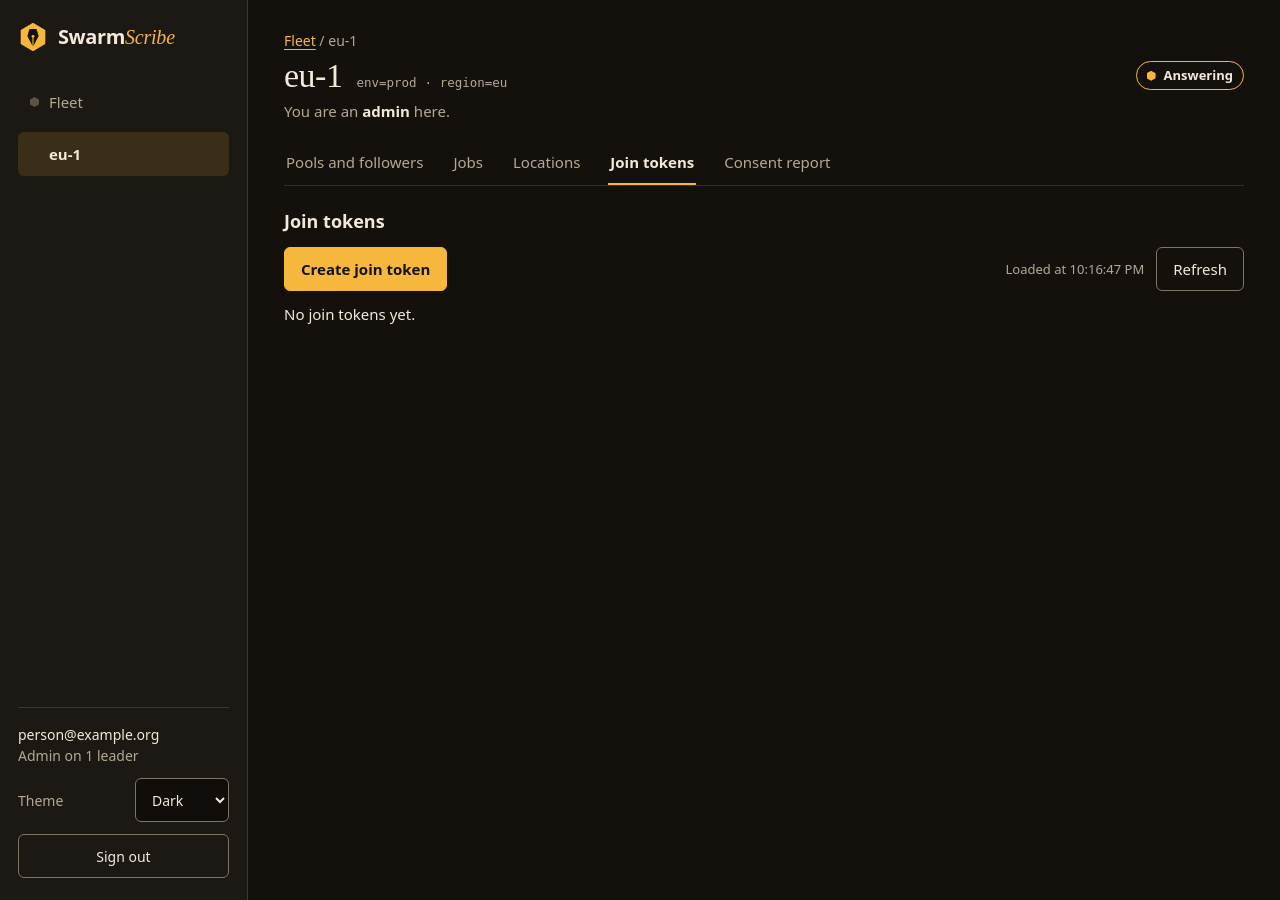
Test: join tokens tab: create › refuses Pool = -bad beside the field, without asking the leader
Click the button "Create join token" at [366, 269], box x1=284 y1=247 x2=447 y2=291
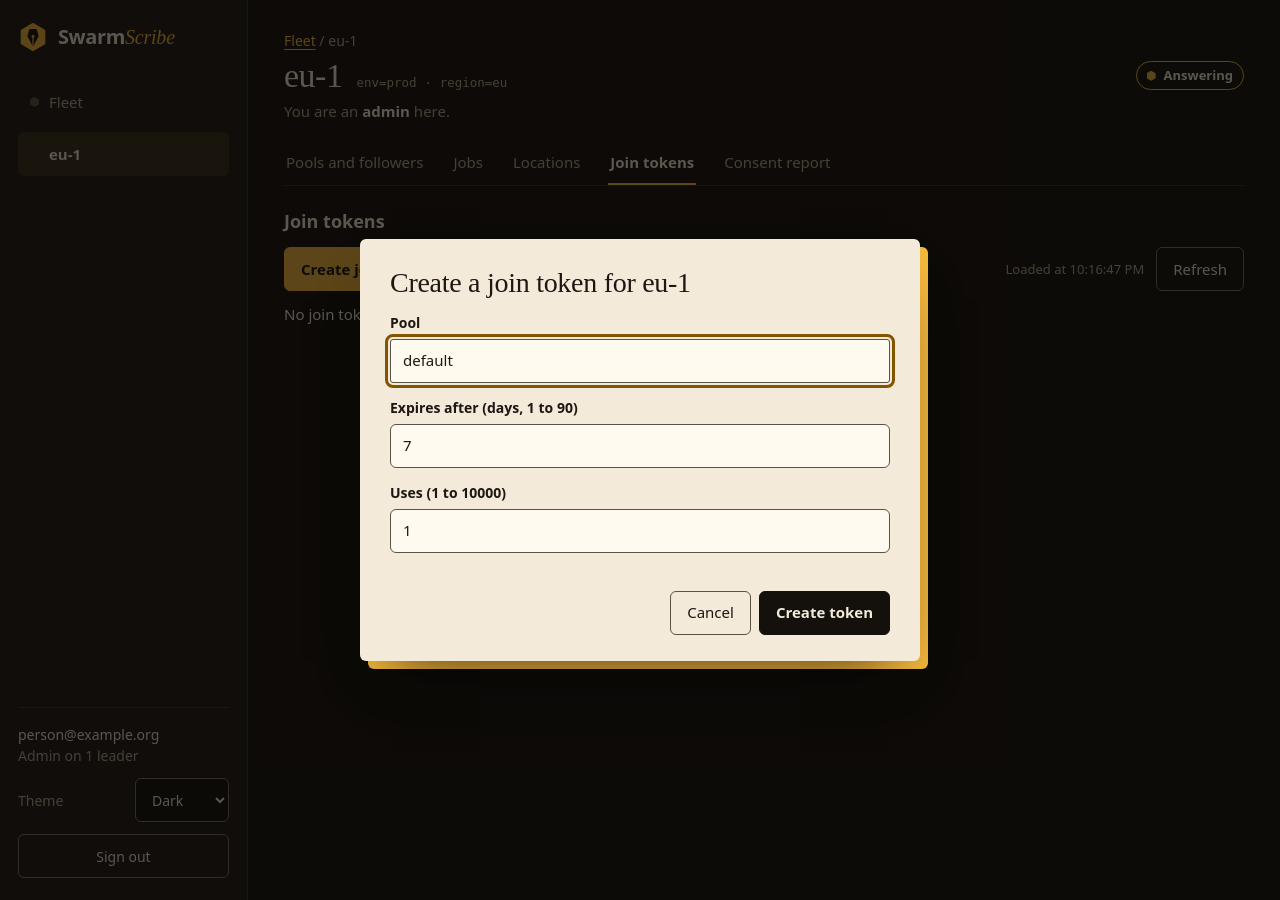
Replace the text in the field labelled "Pool" with "-bad" at [640, 361], box x1=390 y1=339 x2=890 y2=383
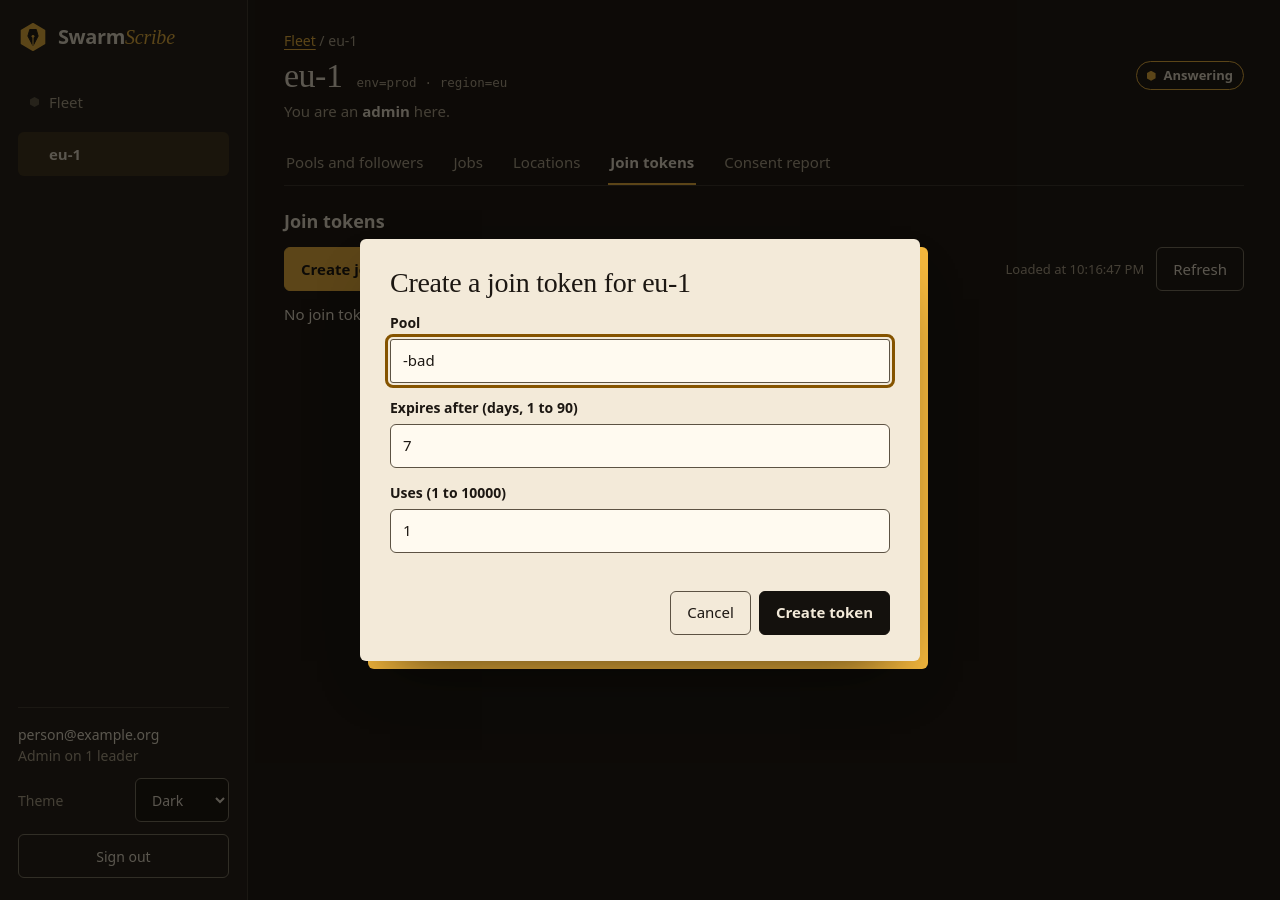
Click the button "Create token" at [824, 613], box x1=759 y1=591 x2=890 y2=635
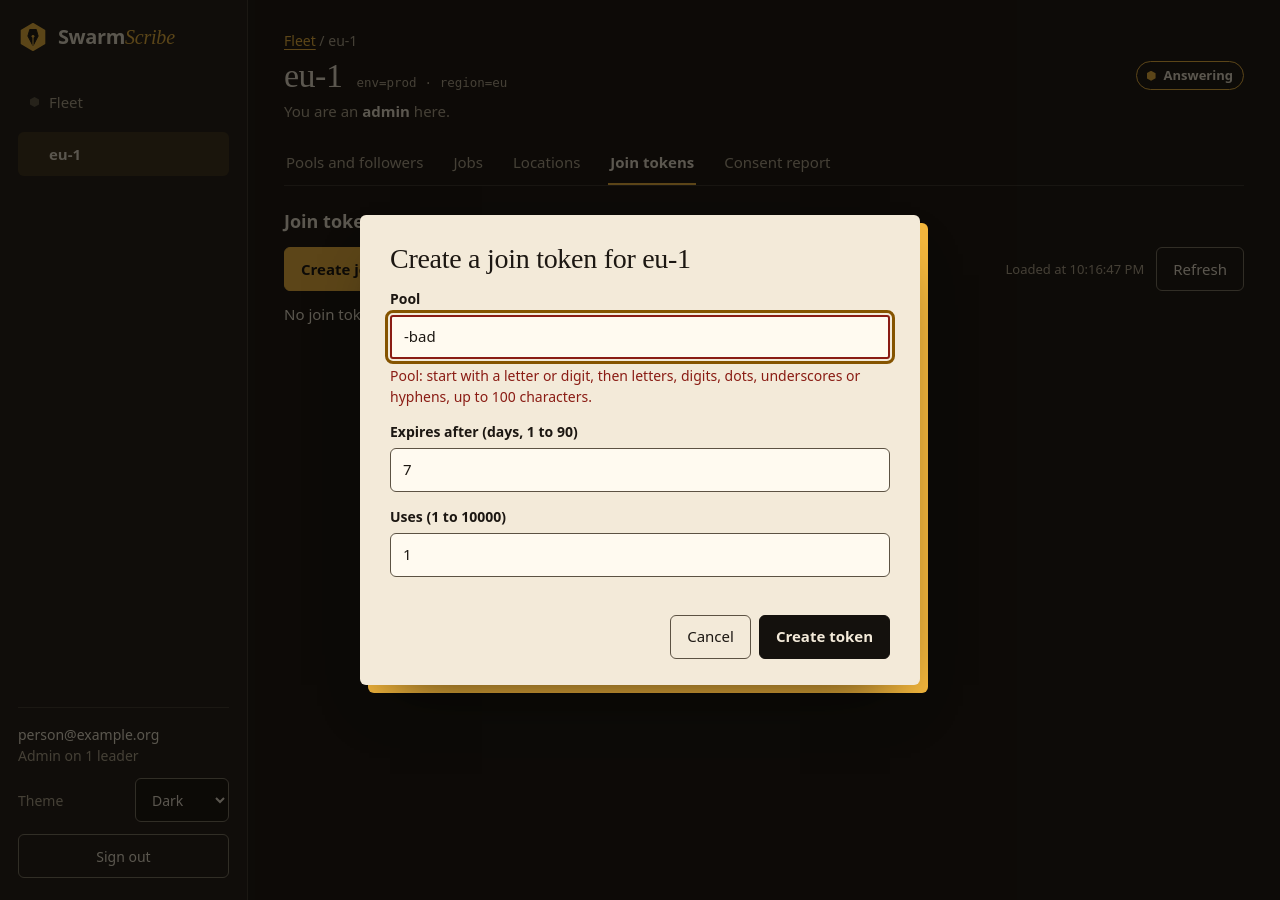
Now the message shows "Pool", box x1=390 y1=366 x2=860 y2=406
